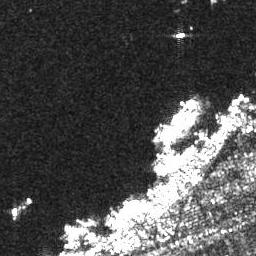ship: (11, 197, 32, 219), (171, 31, 186, 39)
